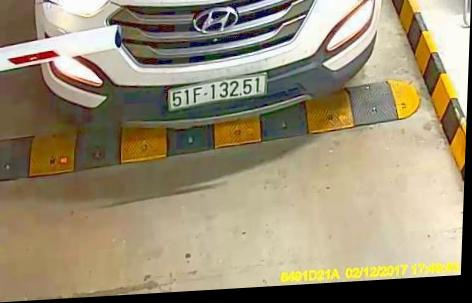License_Plate: (166, 75, 270, 110)
